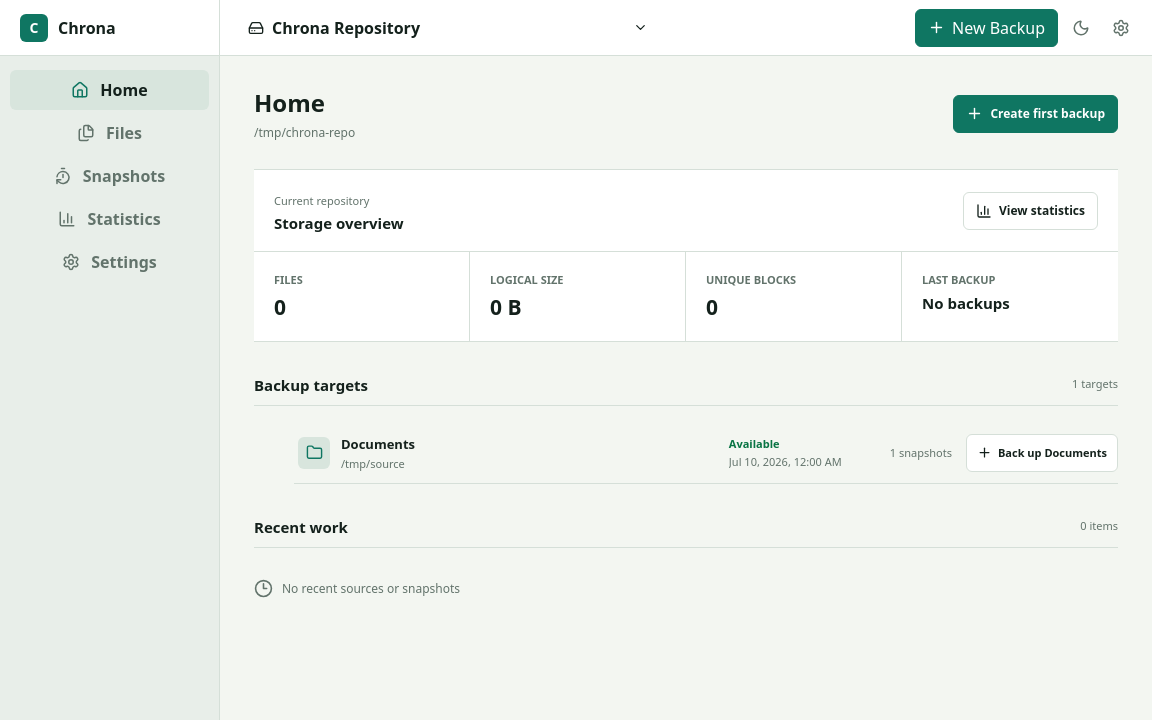
Test case: repository library workspace › keeps destructive repository management out of the quick menu
Step 1. Click the button with aria-label "Chrona Repository repository menu" → (346, 28), box top-left (238, 8), bottom-right (658, 46)
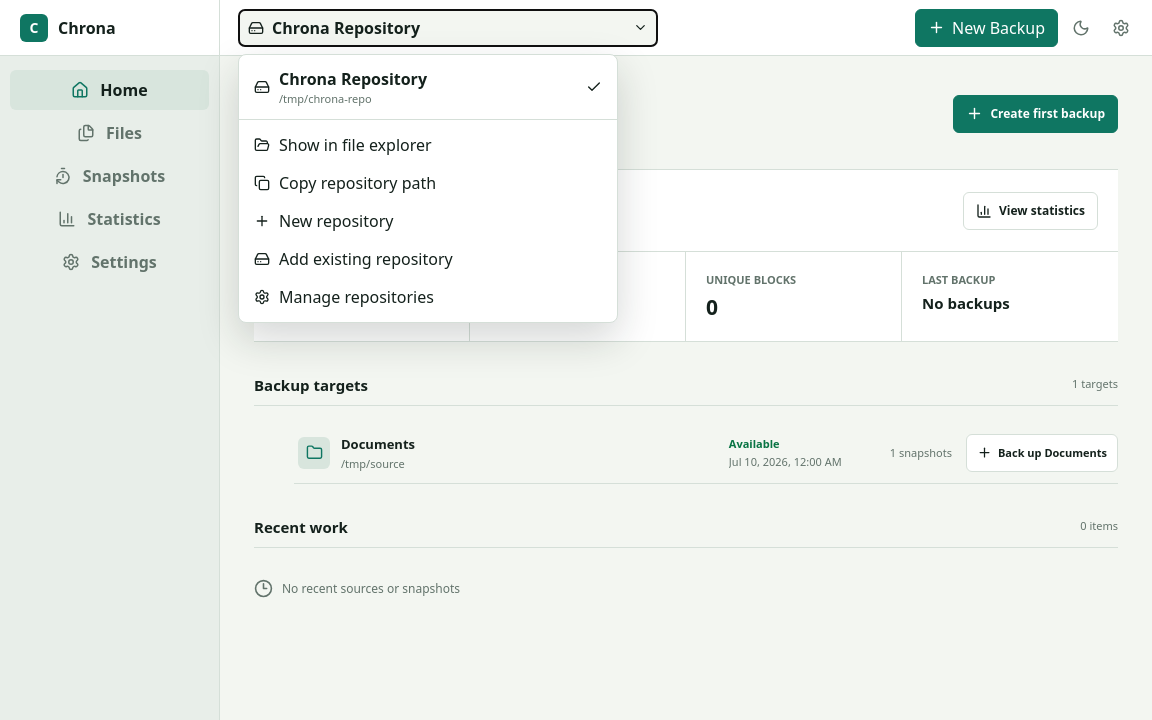
Result: the menu item "Manage repositories" is shown at top-left (245, 278), bottom-right (611, 316)
